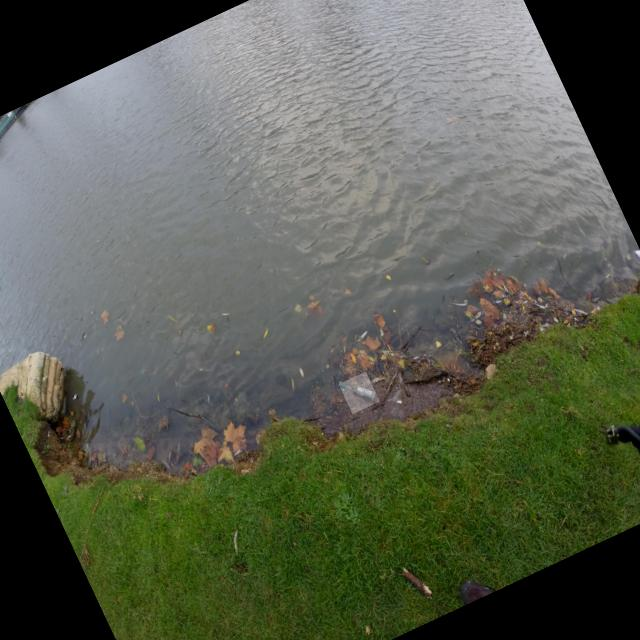Glass bottle: (340, 384, 377, 404)
Unlabeled litter: (73, 394, 77, 400)
